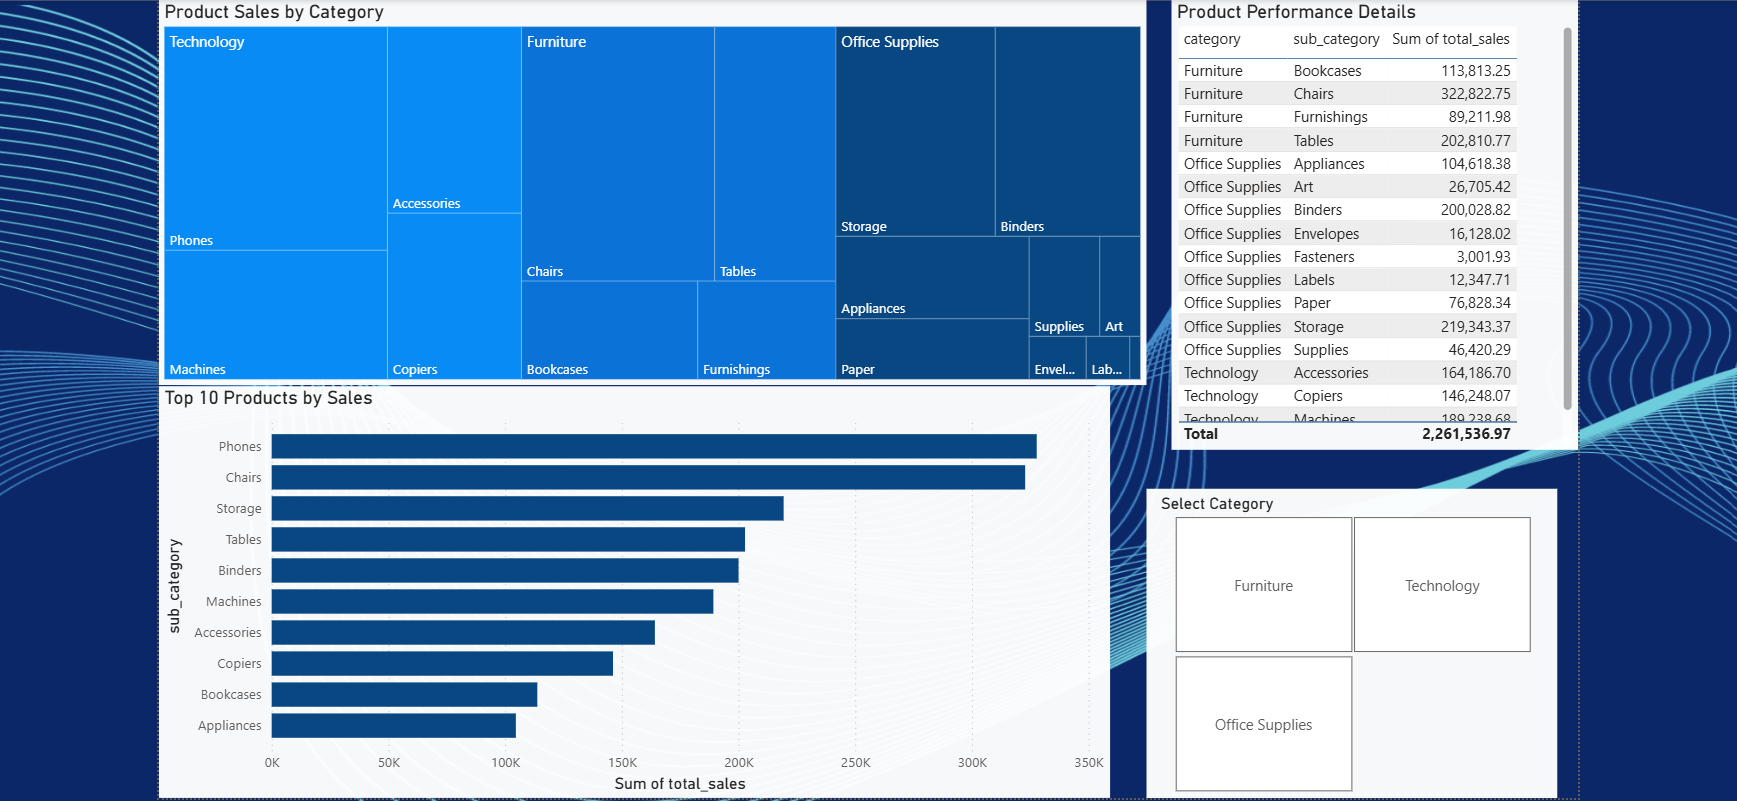

The page's visual inventory and layout, read from the dashboard file:
{"tool":"powerbi","page":{"name":"Page 2","canvas":[1280,720],"ordinal":1},"visuals":[{"type":"treemap","title":"Product Sales by Category","fields":{"Group":["sales_analytics view_product_performance.category"],"Values":["CountNonNull(sales_analytics view_product_performance.sub_category)"],"Details":["sales_analytics view_product_performance.total_sales"]},"box":[0,0,304.6,347.2],"z":0},{"type":"clusteredBarChart","title":"Top 10 Products by Sales","fields":{"Category":["sales_analytics view_product_performance.sub_category"],"Y":["Sum(sales_analytics view_product_performance.total_sales)"]},"box":[0,347.7,857.4,371.6],"z":1000},{"type":"tableEx","title":"Product Performance Details","fields":{"Values":["sales_analytics view_product_performance.category","sales_analytics view_product_performance.sub_category","Sum(sales_analytics view_product_performance.total_sales)"]},"box":[676.7,0,603.4,281.3],"z":2000},{"type":"slicer","fields":{"Values":["sales_analytics view_product_performance.category"]},"box":[305.1,0,371.6,279.6],"z":3000}]}

Visuals, with their boxes on the page's 1280x720 design canvas (x1, y1, x2, y2). These are canvas units, not pixel positions in the 1737x801 screenshot, which may show the page scaled, cropped or inside an application window:
"Product Sales by Category" treemap: <bbox>0, 0, 305, 347</bbox>
"Top 10 Products by Sales" clusteredBarChart: <bbox>0, 348, 857, 719</bbox>
"Product Performance Details" tableEx: <bbox>677, 0, 1280, 281</bbox>
slicer - sales_analytics view_product_performance.category: <bbox>305, 0, 677, 280</bbox>
